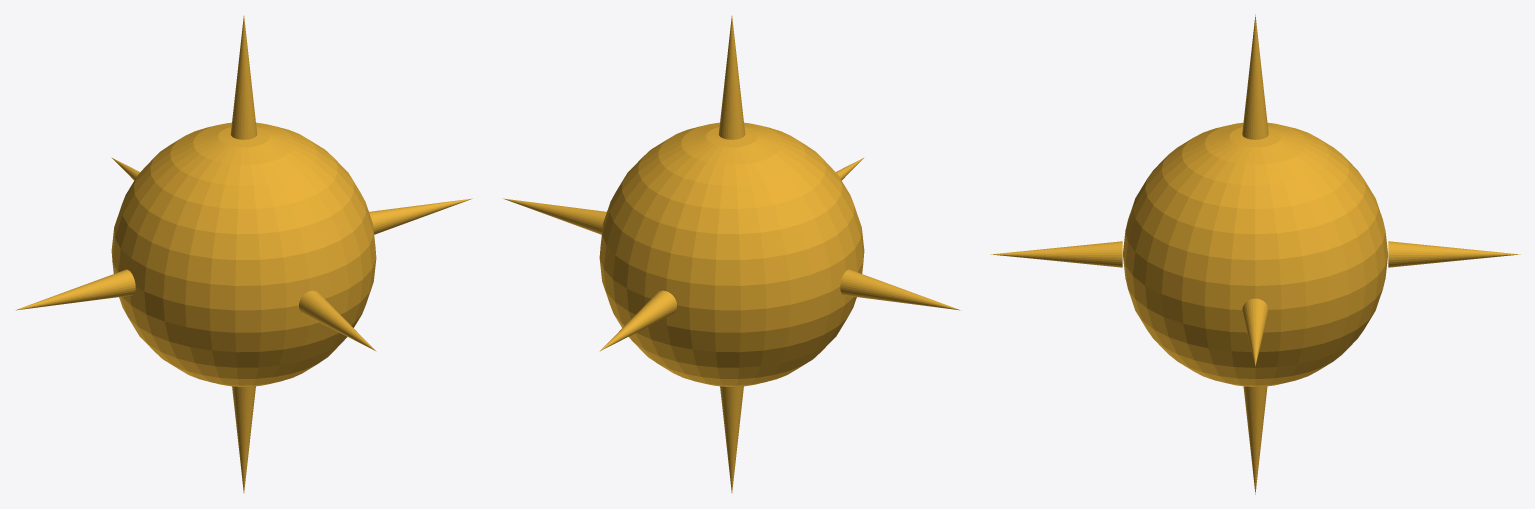
3 renders of one model, left to right at view 1: azimuth 30°, elevation 25°; view 2: azimuth 150°, elevation 25°; view 3: azimuth 270°, elevation 25°, orthographic.
Visible parts, largest first — view 1: Cone.002; view 2: Cone.002; view 3: Cone.002.
Part boxes in pixels (x1,y1,x2,y2): Cone.002: (15, 16, 472, 492); Cone.002: (503, 16, 960, 492); Cone.002: (990, 14, 1520, 494).
Size of the model in its own units: 400 by 400 by 400.
